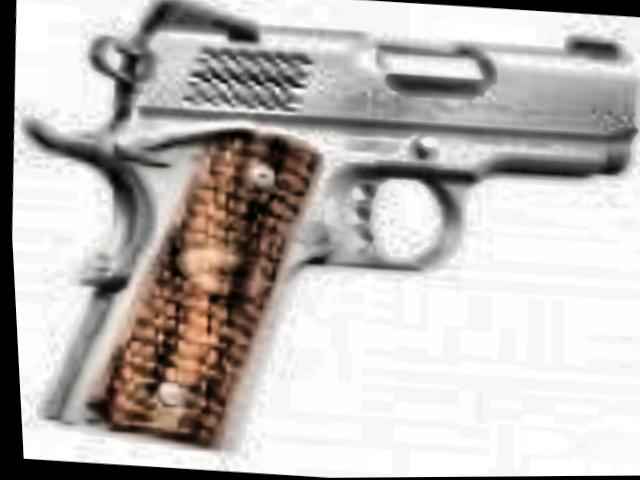pistol: (2, 0, 640, 467)
